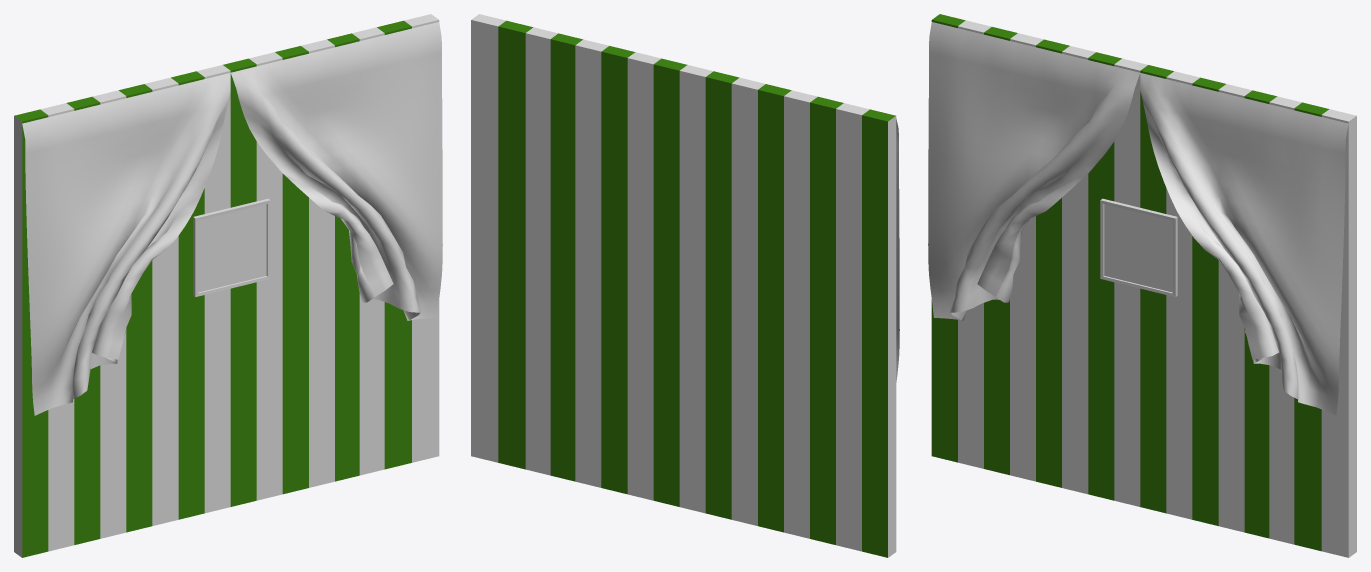
File: Paredcuadro.fbx
3 views of the same model, side by side, from view 1: azimuth 30°, elevation 25°; view 2: azimuth 150°, elevation 25°; view 3: azimuth 330°, elevation 25° (orthographic).
Visible parts, largest first — view 1: Cube, Cortinas, Cube.001; view 2: Cube, Cortinas; view 3: Cube, Cortinas, Cube.001.
Part boxes in pixels (x1,y1,x2,y2): Cube: [14, 14, 439, 557]; Cortinas: [22, 22, 442, 415]; Cube.001: [193, 198, 270, 296]; Cube: [471, 14, 896, 557]; Cortinas: [896, 119, 899, 381]; Cube: [931, 14, 1356, 557]; Cortinas: [928, 22, 1348, 415]; Cube.001: [1100, 198, 1177, 296].
Bounding box in the file's own units: 300 × 34.66 × 300.
